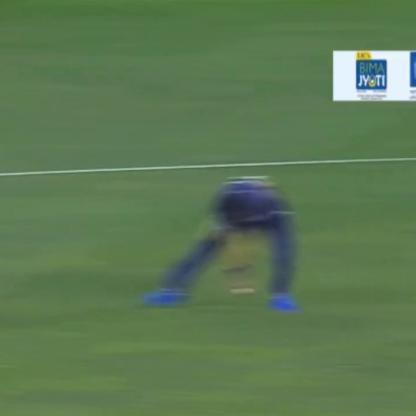ball: (242, 285, 262, 298), (224, 287, 243, 298)
